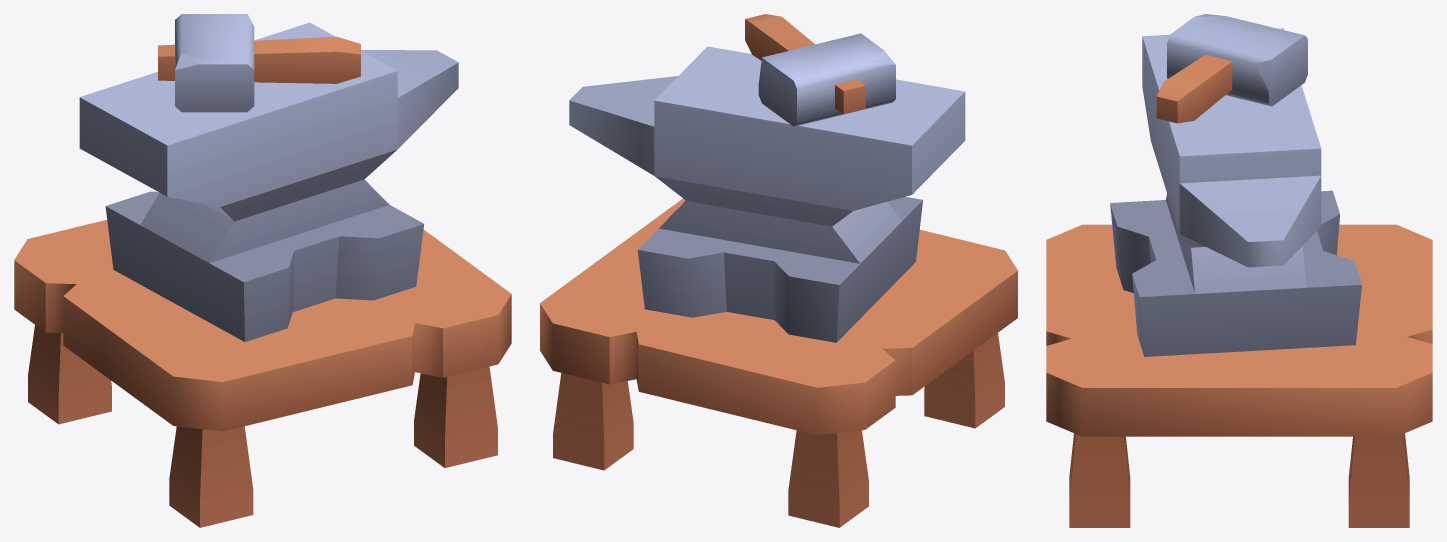
Rendered from workbench-anvil.glb.
3 views of the same model, side by side, from view 1: azimuth 30°, elevation 25°; view 2: azimuth 150°, elevation 25°; view 3: azimuth 270°, elevation 25° (orthographic). The views are drawn at different scales.
Visible parts, largest first — view 1: workbench-anvil; view 2: workbench-anvil; view 3: workbench-anvil.
Boxes of the visible parts, x1,y1,x2,y2 form: workbench-anvil: (14, 14, 511, 527); workbench-anvil: (540, 14, 1017, 527); workbench-anvil: (1046, 14, 1432, 527).
Size of the model in its own units: 0.3227 by 0.3358 by 0.2957.
Materials: 1 (1 with a texture image).
